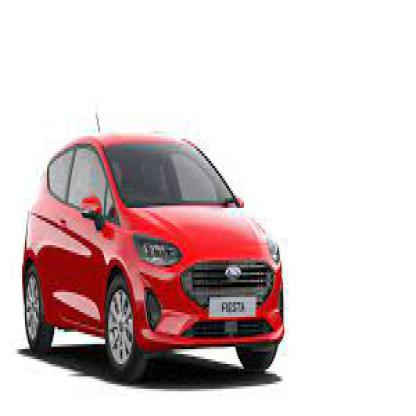Car: (21, 132, 285, 382)
